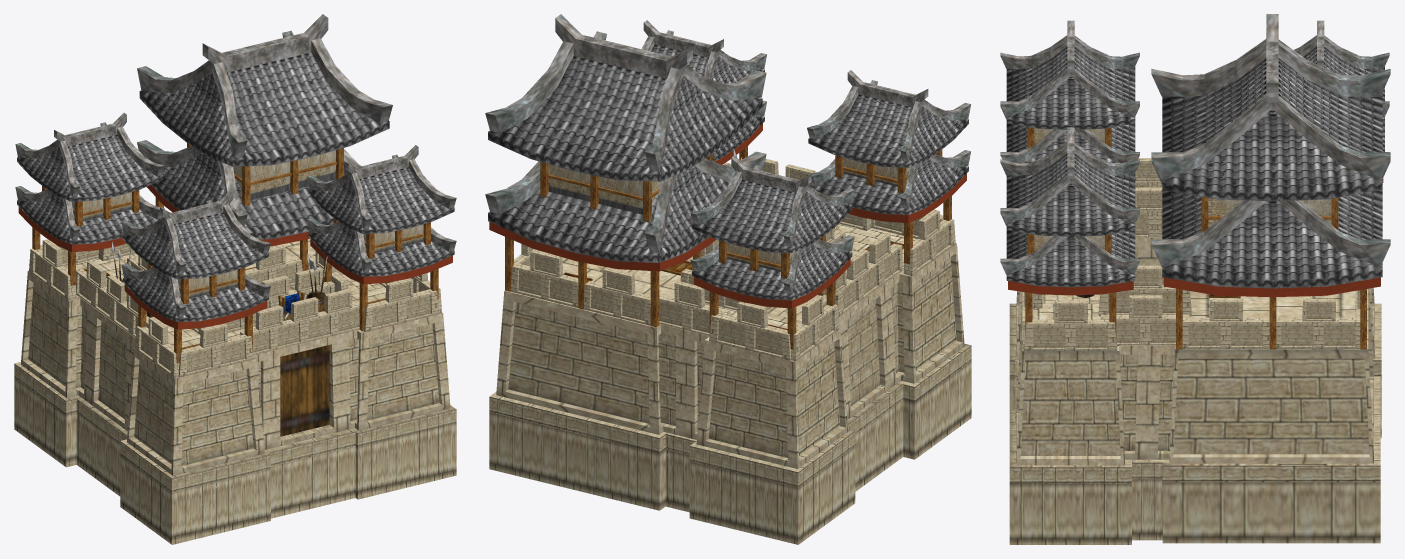
The model's file is fortress.dae.
3 renders of one model, left to right at view 1: azimuth 30°, elevation 25°; view 2: azimuth 150°, elevation 25°; view 3: azimuth 270°, elevation 25°, orthographic. The views are drawn at different scales.
Parts seen in each view (by area): view 1: fortress; view 2: fortress; view 3: fortress.
Part boxes in pixels (x1,y1,x2,y2): fortress: (14, 14, 456, 544); fortress: (485, 14, 971, 544); fortress: (1000, 14, 1390, 544).
Bounding box in the file's own units: 25.43 × 25.67 × 32.69.
